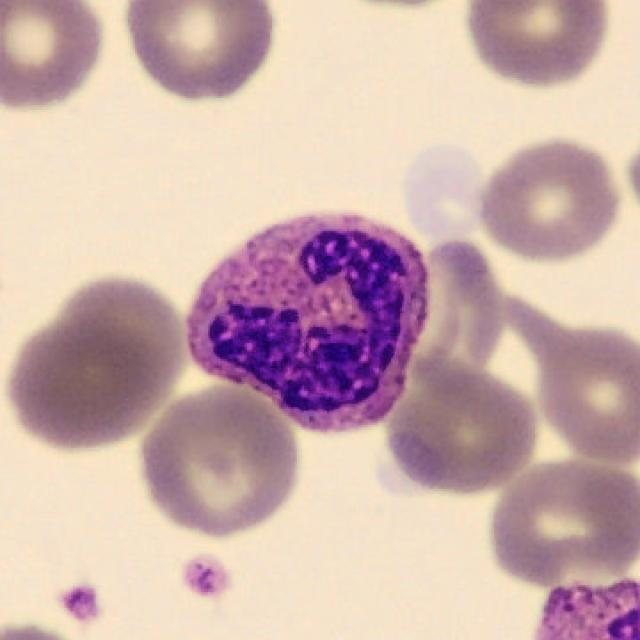Neutrofilo segmentado: (185, 213, 430, 436)
